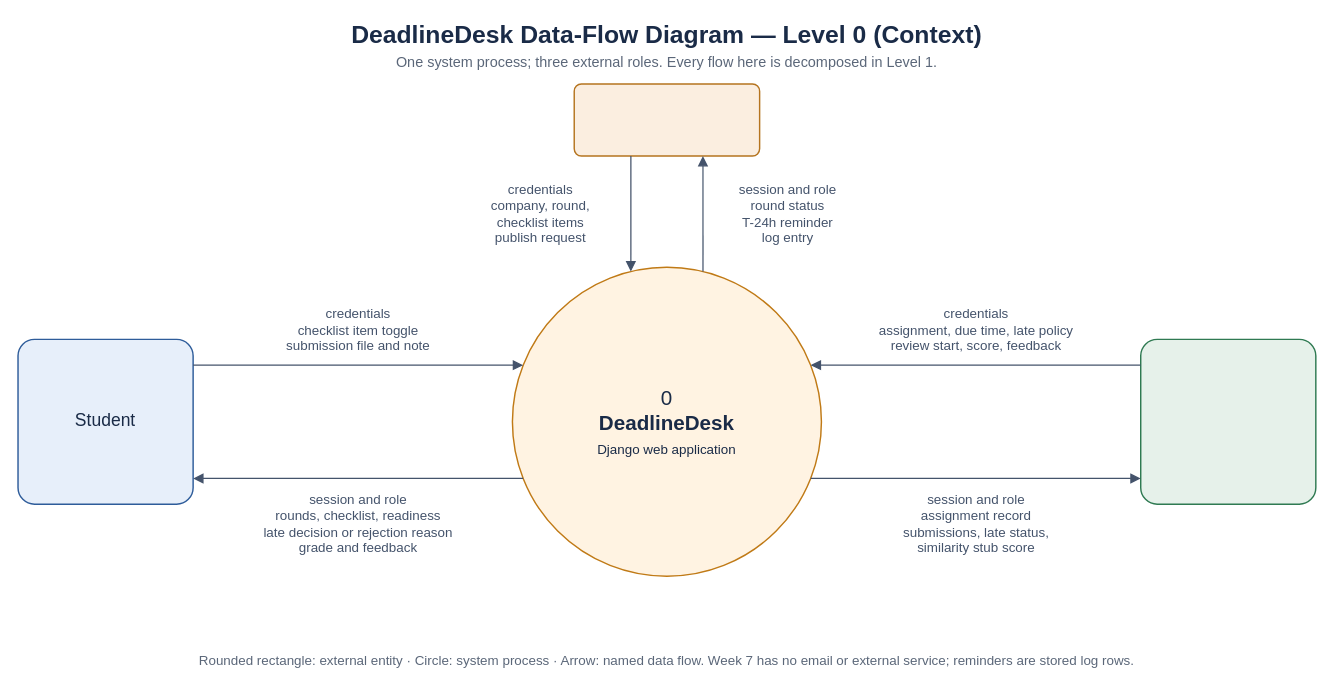
The diagram is 1335 pixels wide and 700 high, and some of its shapes have lost their labels. Here are the shapes that lost their labels. From the top down, the box of each, then its label:
(573, 83, 760, 156): Placement Admin
(1139, 338, 1316, 504): TA / Faculty
